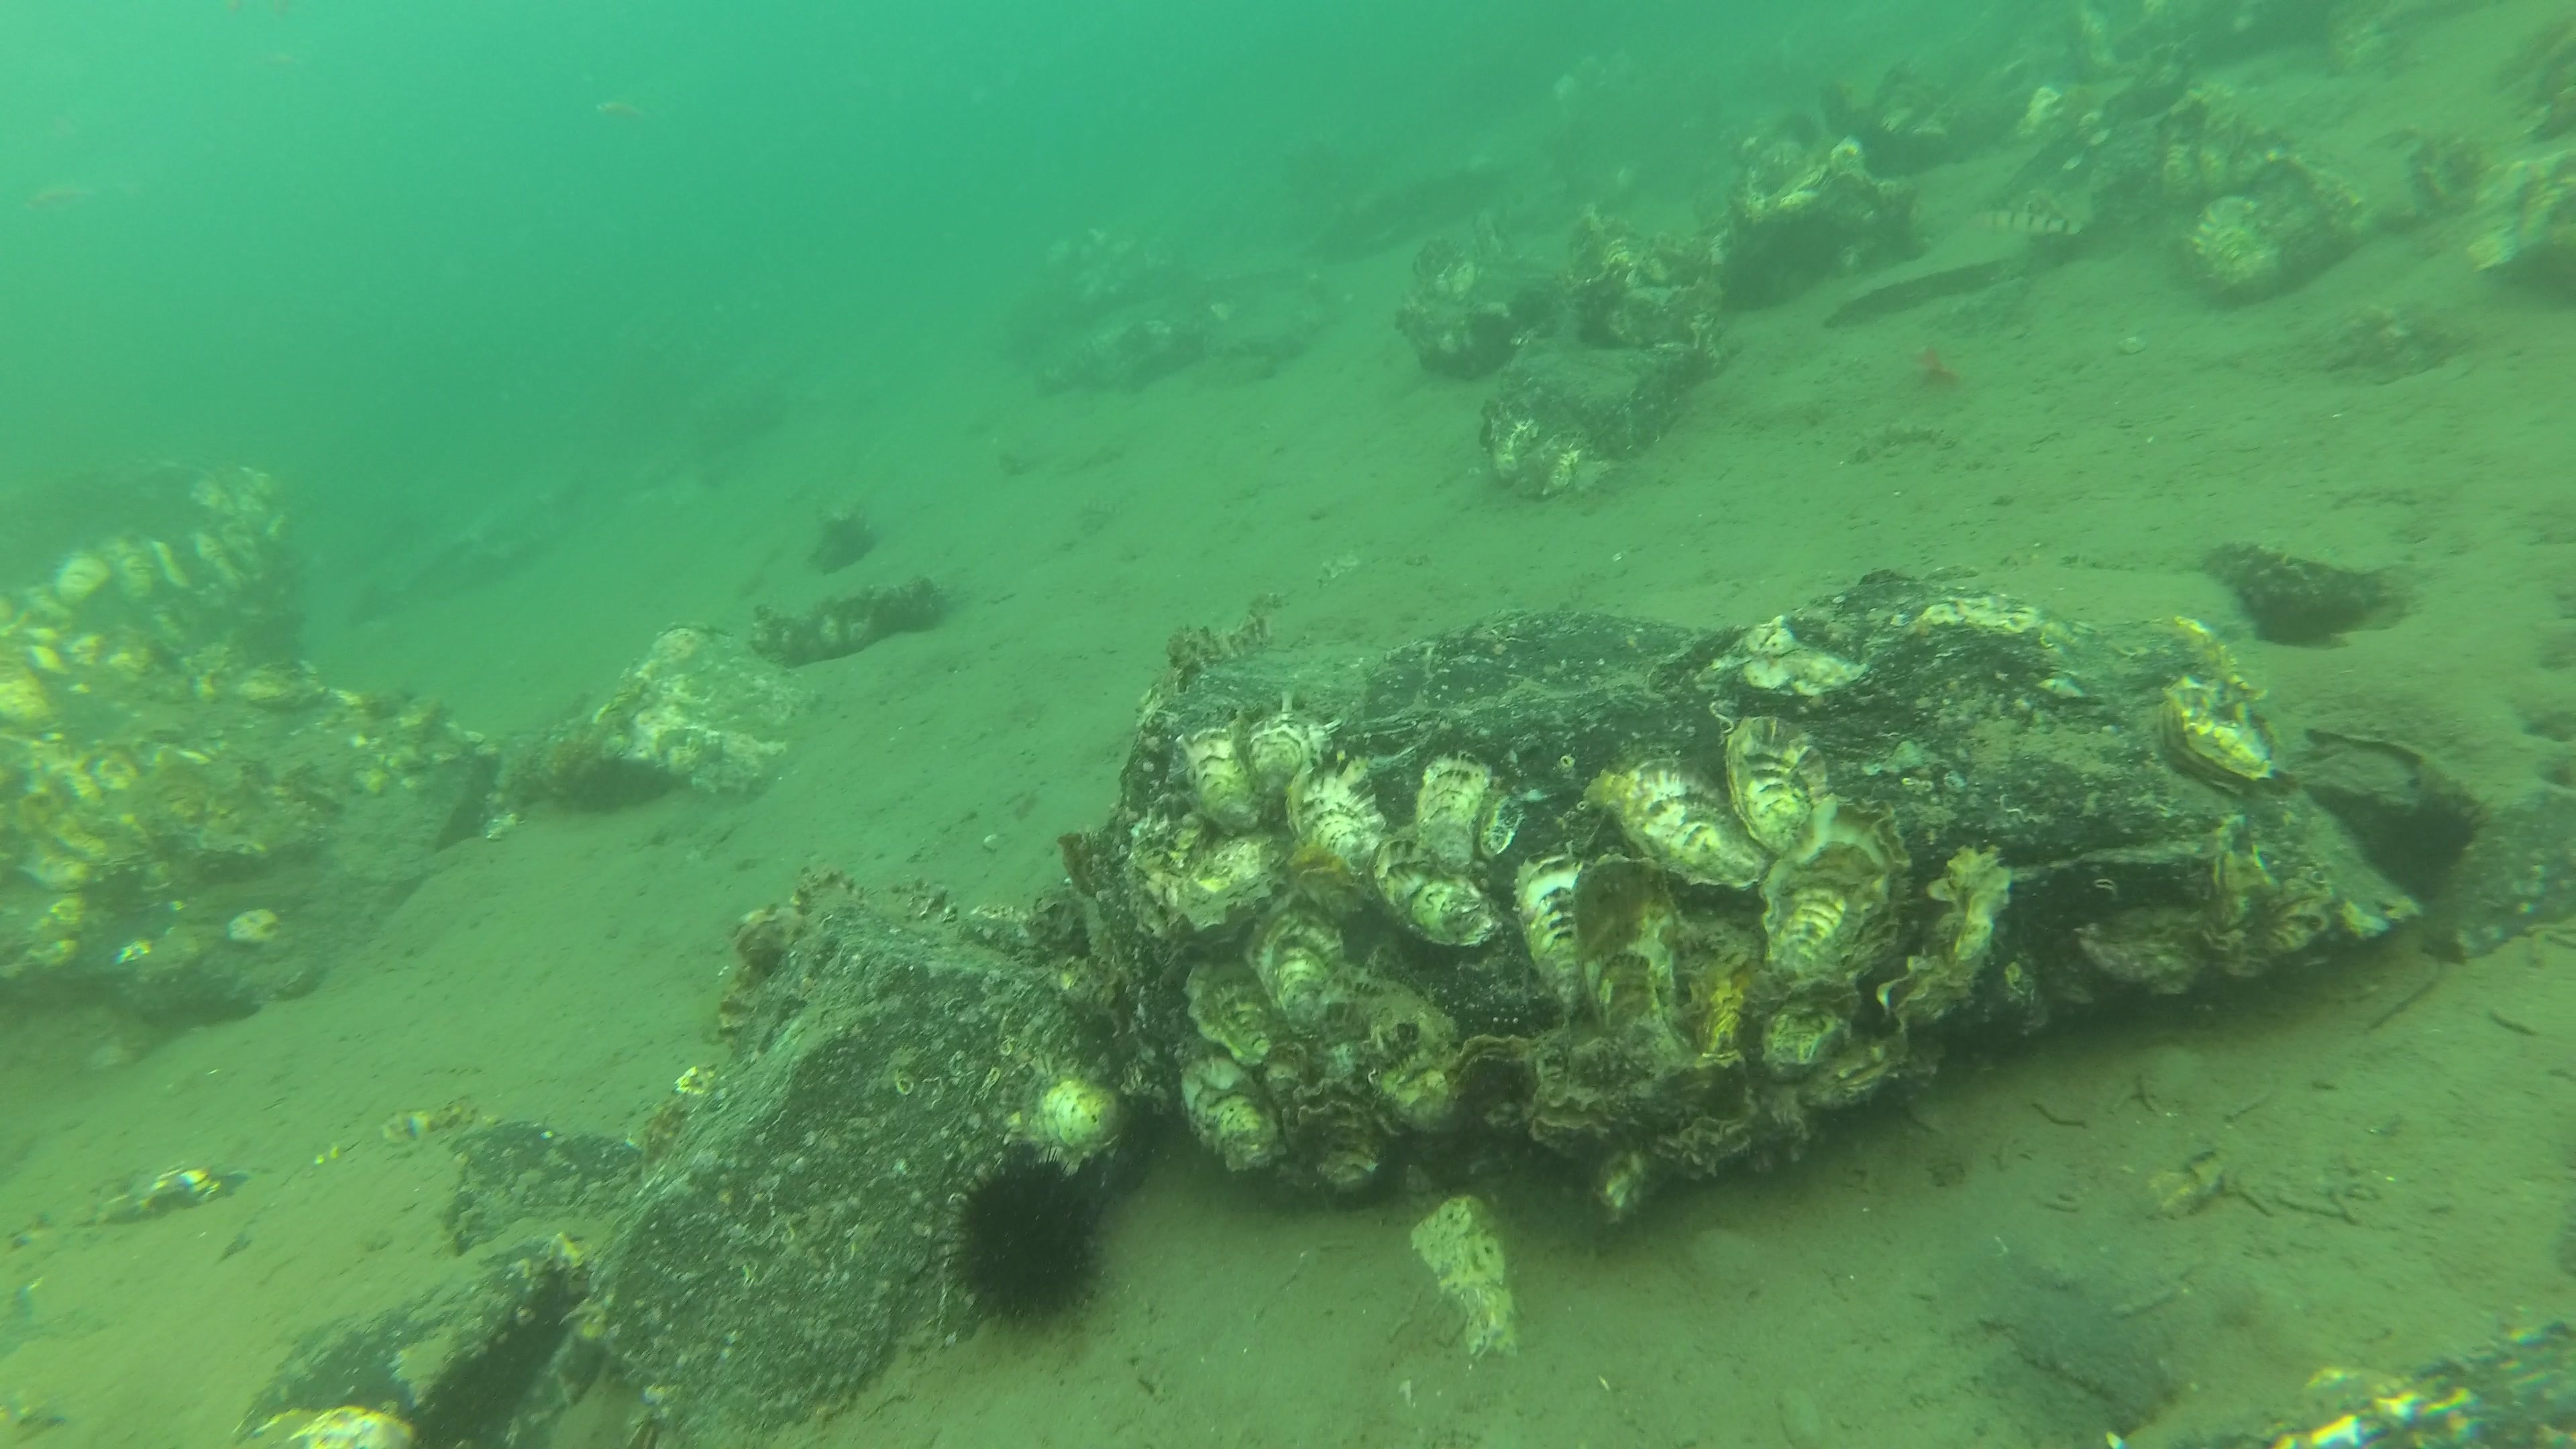echinus: (957, 1150, 1099, 1330)
